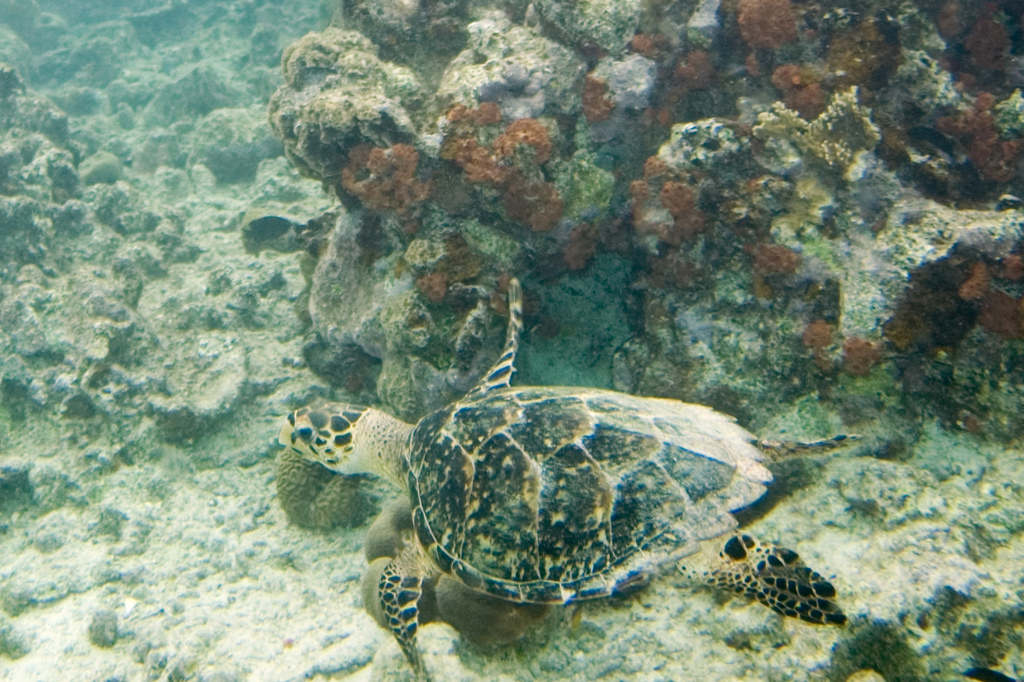Sea turtles: (271, 274, 865, 681)
